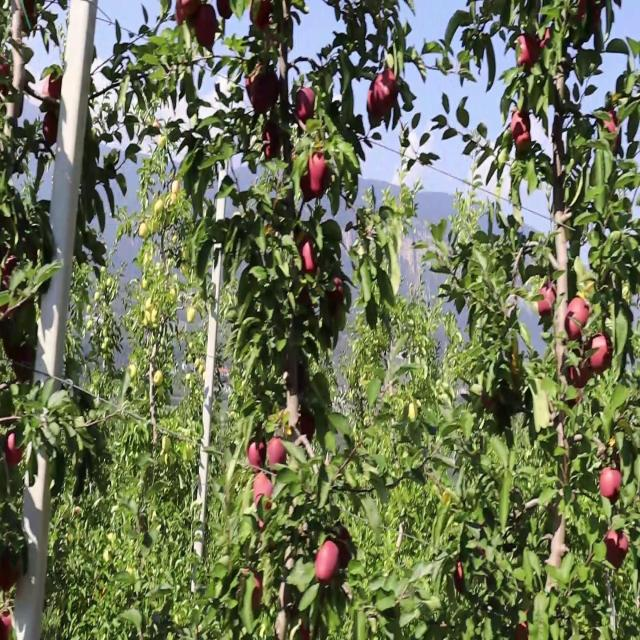apple: (252, 63, 280, 117), (376, 63, 400, 119), (308, 149, 334, 199), (564, 298, 592, 343), (316, 540, 340, 585), (196, 7, 220, 50), (588, 334, 613, 375), (604, 533, 630, 571), (516, 35, 541, 73), (240, 575, 264, 613), (568, 355, 592, 393), (600, 469, 624, 505), (296, 85, 317, 126), (248, 0, 273, 34), (264, 120, 283, 164), (284, 362, 308, 396), (512, 113, 532, 153), (368, 79, 385, 126), (596, 433, 620, 466), (580, 1, 603, 34), (300, 241, 321, 277), (604, 106, 622, 148), (0, 554, 18, 594), (368, 85, 384, 128), (536, 284, 556, 318), (268, 440, 288, 473), (576, 1, 600, 28), (176, 0, 199, 28), (4, 334, 26, 363), (16, 348, 33, 384), (328, 277, 345, 311), (8, 433, 24, 469), (256, 476, 274, 508), (44, 113, 60, 149), (249, 575, 264, 613), (248, 440, 266, 471), (300, 170, 316, 204), (300, 412, 316, 441), (4, 255, 17, 290), (480, 391, 498, 412), (48, 78, 64, 101), (216, 0, 233, 21), (456, 561, 466, 596), (540, 28, 553, 53), (300, 284, 313, 309), (280, 583, 291, 610), (516, 618, 530, 639), (0, 56, 11, 78), (4, 618, 13, 639), (188, 305, 196, 325)
